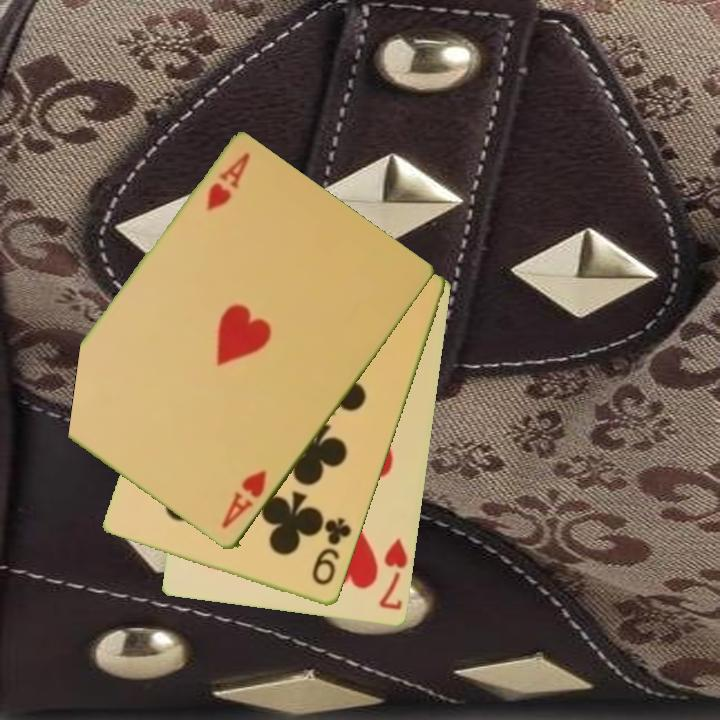7h: (376, 535, 411, 613)
9c: (308, 514, 355, 589)
Ah: (218, 467, 270, 533), (203, 149, 254, 215)
